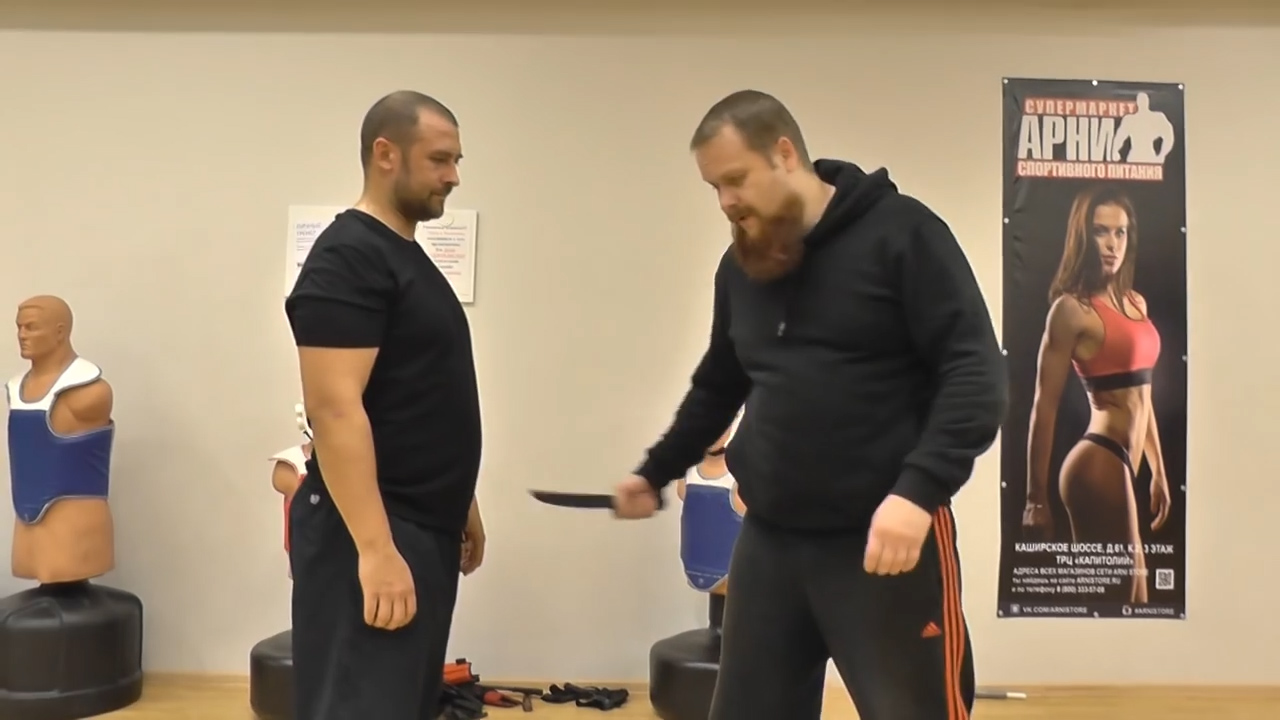knife: (521, 475, 673, 528)
